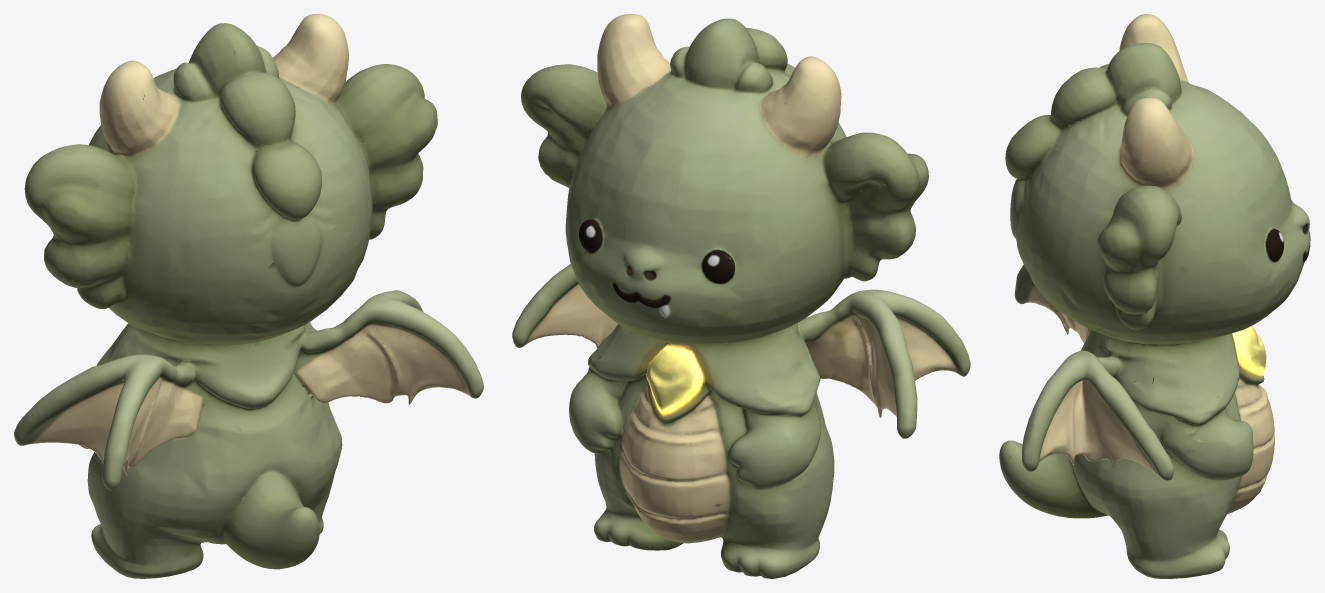
Rendered from dragon_clean.glb.
3 renders of one model, left to right at view 1: azimuth 30°, elevation 25°; view 2: azimuth 150°, elevation 25°; view 3: azimuth 270°, elevation 25°, orthographic. The views are drawn at different scales.
Visible parts, largest first — view 1: Dragon; view 2: Dragon; view 3: Dragon.
Boxes of the visible parts, left/top/right/bottom form: Dragon: left=14, top=14, right=483, bottom=578; Dragon: left=512, top=14, right=970, bottom=578; Dragon: left=999, top=14, right=1310, bottom=578.
Bounding box in the file's own units: 0.7934 × 0.9865 × 0.5647.
Materials: 1 (1 with a texture image).
